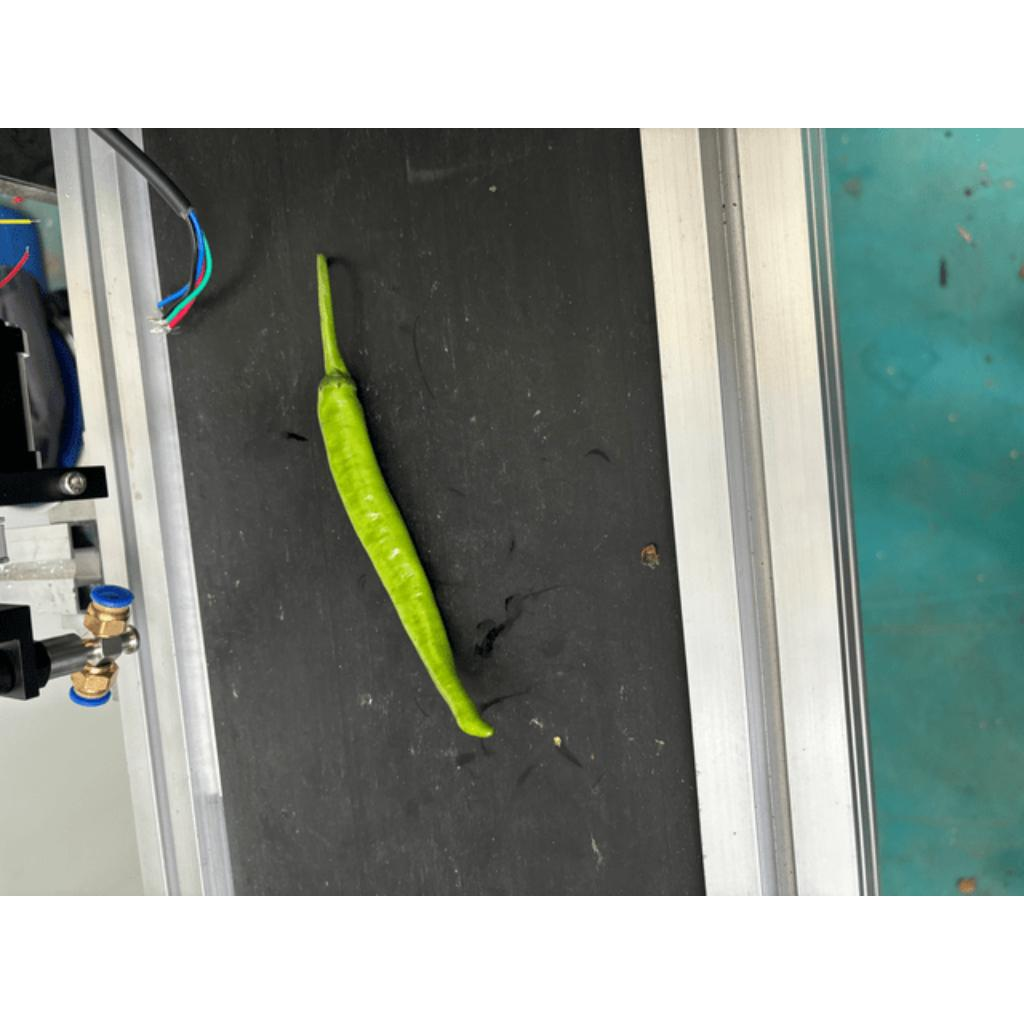chili: (313, 372, 503, 739)
